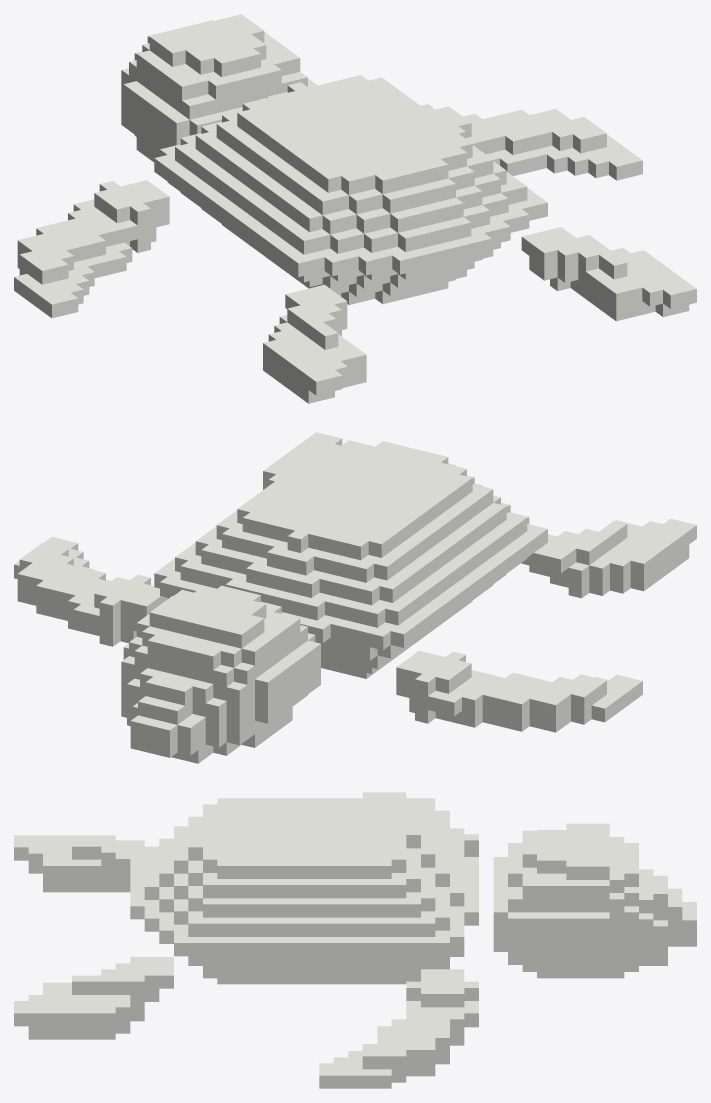
The model's file is SM_Turtle_A1_ML.obj.
3 views of the same model, one above another, from view 1: azimuth 30°, elevation 25°; view 2: azimuth 150°, elevation 25°; view 3: azimuth 270°, elevation 25° (orthographic). The views are drawn at different scales.
Bounding box in the file's own units: 4.5 × 0.9 × 4.7.
1 material, 1 textured.
